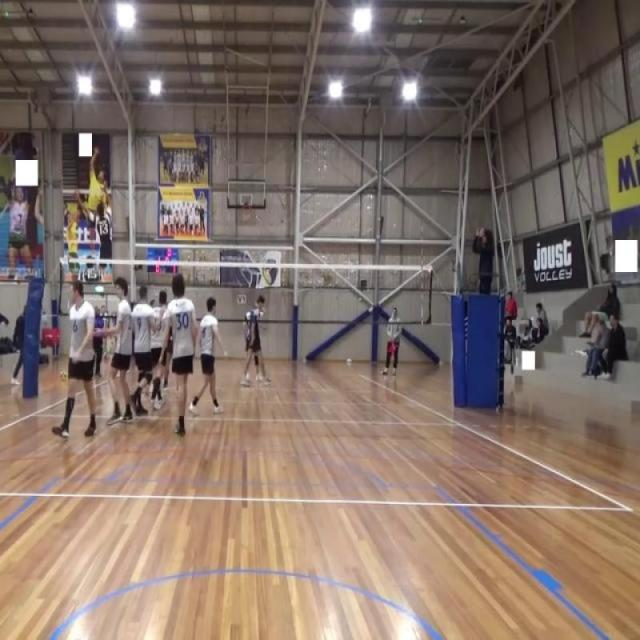volleyball: (60, 370, 68, 382)
